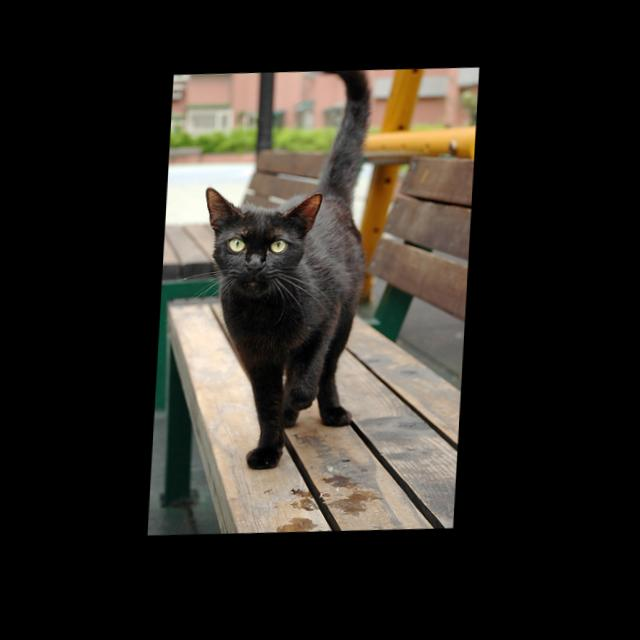animals: (205, 184, 322, 282)
